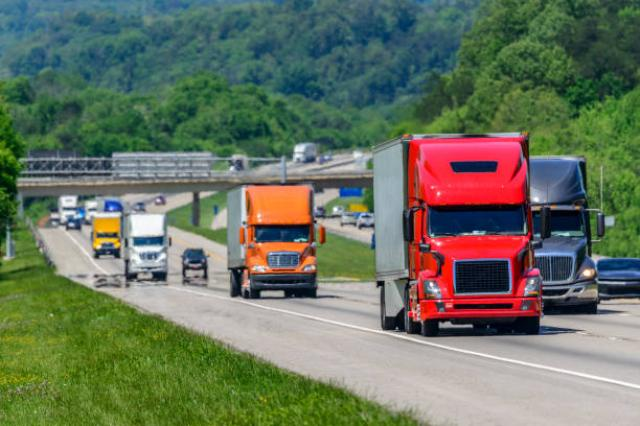truck: (373, 131, 546, 337), (527, 153, 607, 308), (225, 184, 324, 302), (121, 212, 171, 282), (90, 211, 123, 259)
